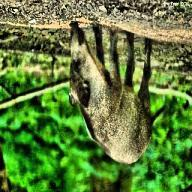boar: (67, 23, 154, 166)
